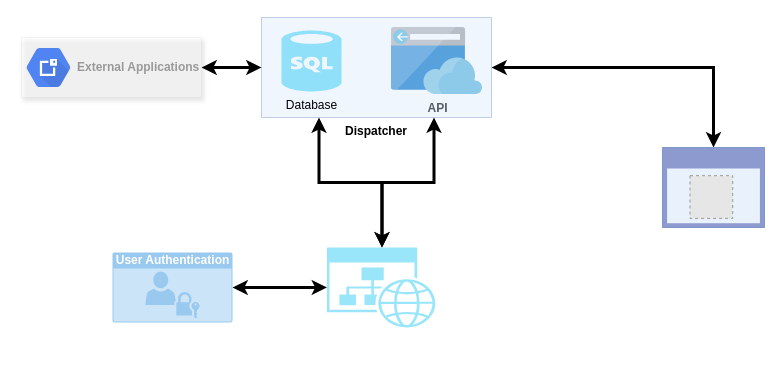
This 784x366 diagram has some shape labels left out. Grey dashed boxes stand in for pictures. The shapes that lost their labels are listed below. From the top down, each one's centre as x and y in pixels, then its label:
At (713,187): "Prudens Prolog Application".
At (381,287): "Front-End".
